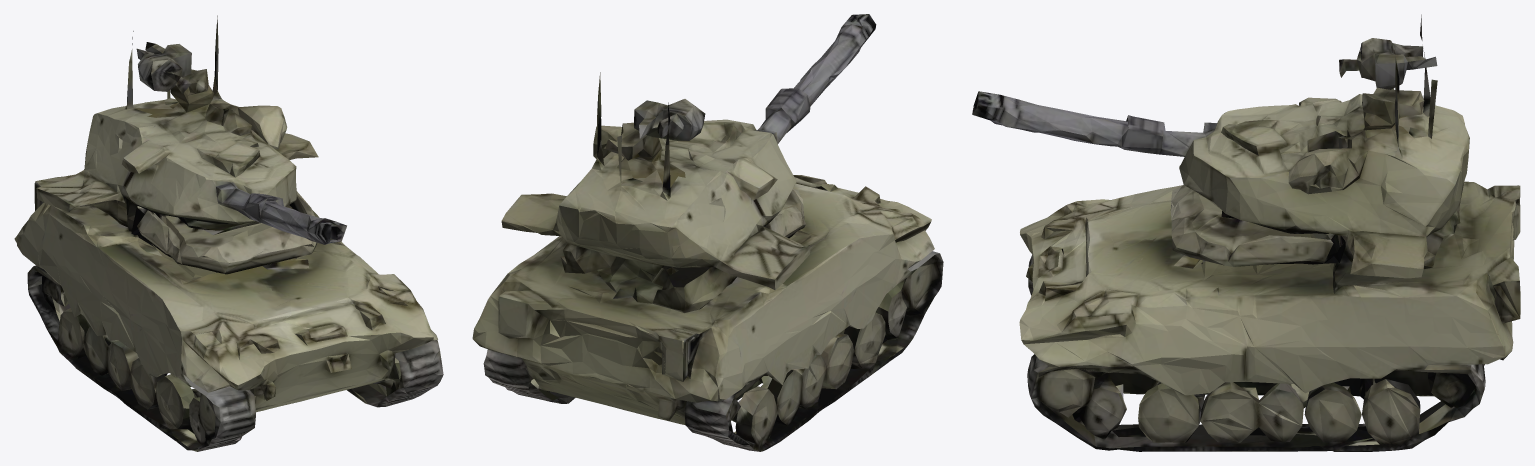
The model's file is veh_zbd04a.glb.
3 views of the same model, side by side, from view 1: azimuth 30°, elevation 25°; view 2: azimuth 150°, elevation 25°; view 3: azimuth 270°, elevation 25° (orthographic). The views are drawn at different scales.
Parts seen in each view (by area): view 1: veh_zbd04a_tex; view 2: veh_zbd04a_tex; view 3: veh_zbd04a_tex.
Boxes of the visible parts, x1,y1,x2,y2 form: veh_zbd04a_tex: (14,15,443,451); veh_zbd04a_tex: (472,14,943,451); veh_zbd04a_tex: (972,14,1520,451).
Bounding box in the file's own units: 4.44 × 5.22 × 7.2.
1 material, 1 textured.
